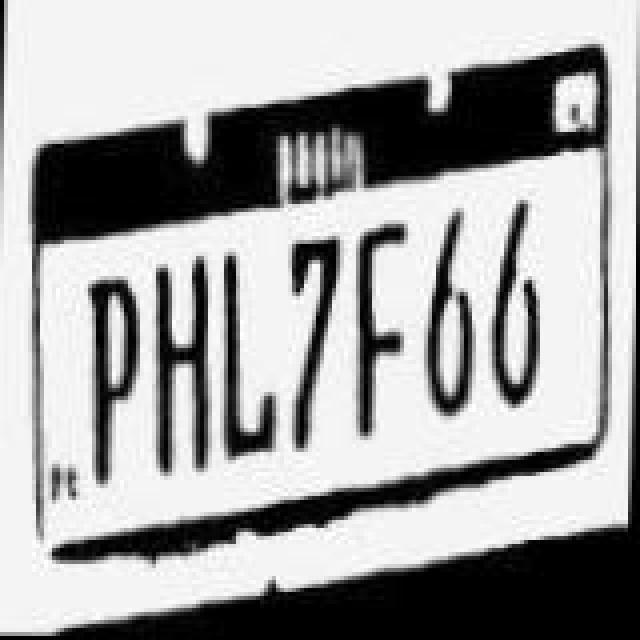6: (420, 206, 484, 418), (486, 198, 546, 406)
7: (286, 238, 346, 458)
F: (348, 226, 412, 442)
H: (150, 258, 218, 478)
L: (220, 250, 284, 462)
P: (80, 276, 148, 488)
